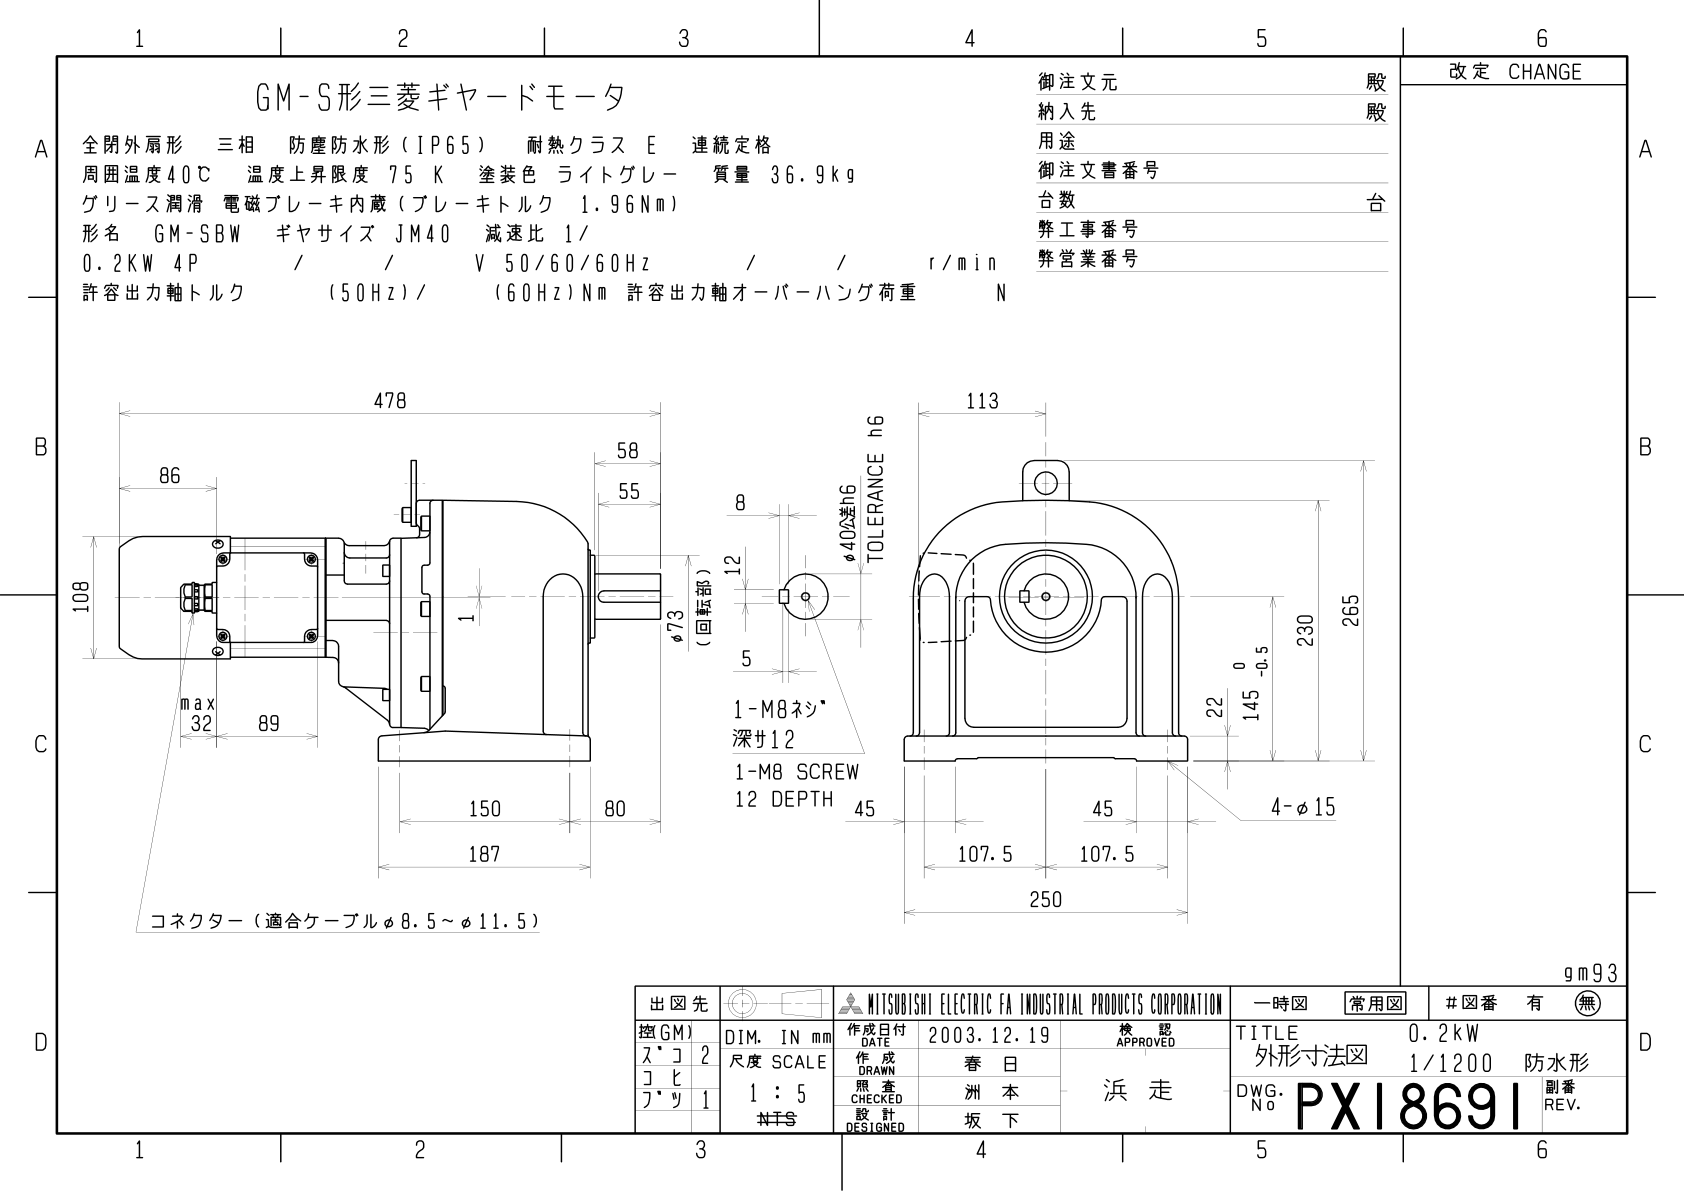GM_S_IP65＿三相_脚: (63, 336, 1389, 949)
